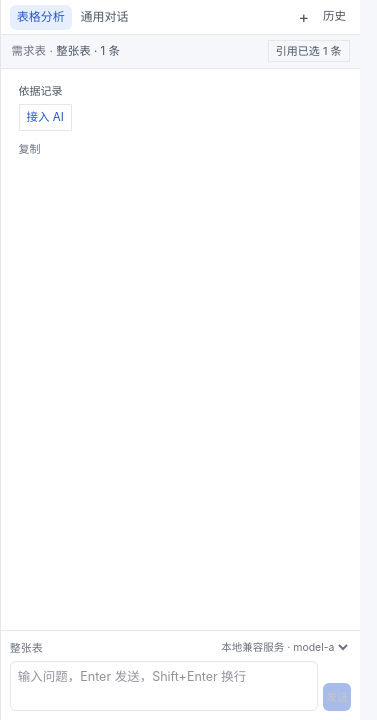
Test case: ChatPanel Phase 6 右侧 AI 面板 › 引用跳转失败时只显示局部可重试错误，不丢失面板上下文
Click the button "接入 AI": (45, 117) left=18, top=104, right=72, bottom=131
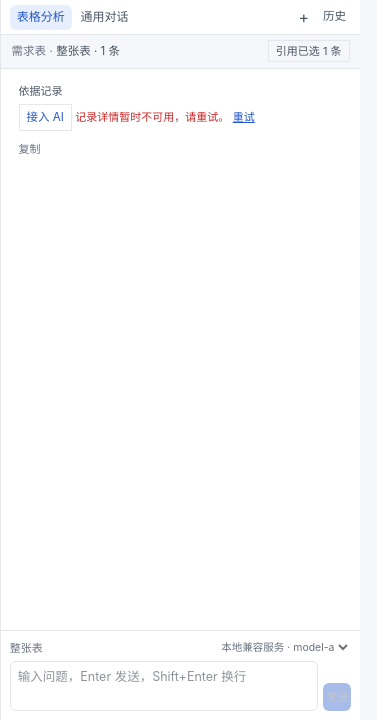
Expected: the element named "AI 对话消息" is shown, left=18, top=84, right=255, bottom=158
Expected: the message shows "记录详情暂时不可用", left=75, top=110, right=229, bottom=124
Click the button "重试": (244, 117) left=233, top=109, right=255, bottom=126
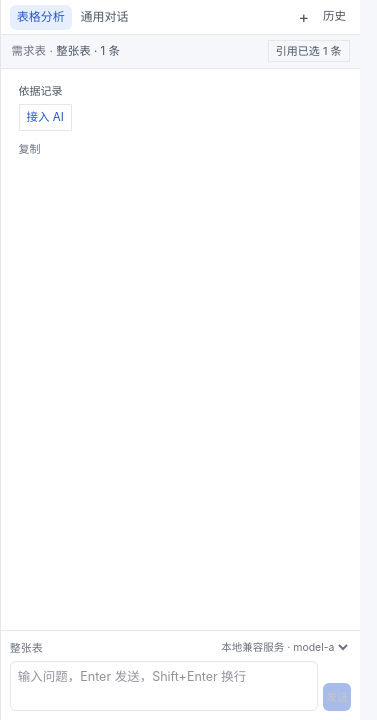
Expected: the message "记录详情暂时不可用，请重试。" is gone
